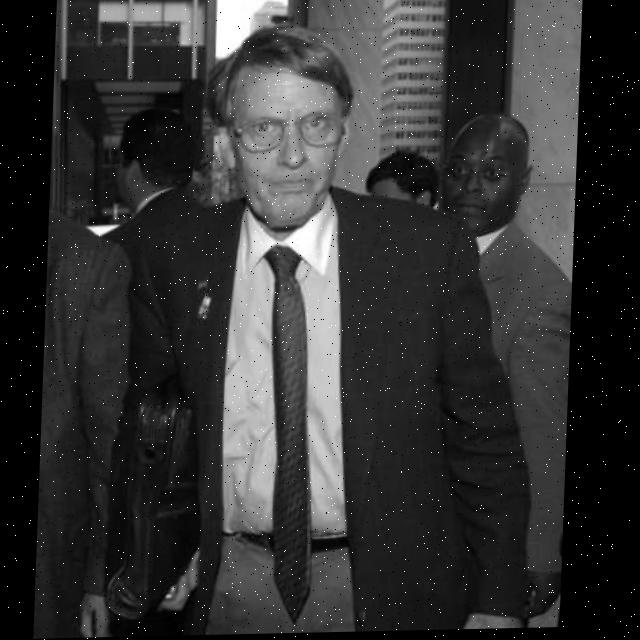face: (198, 40, 360, 232)
